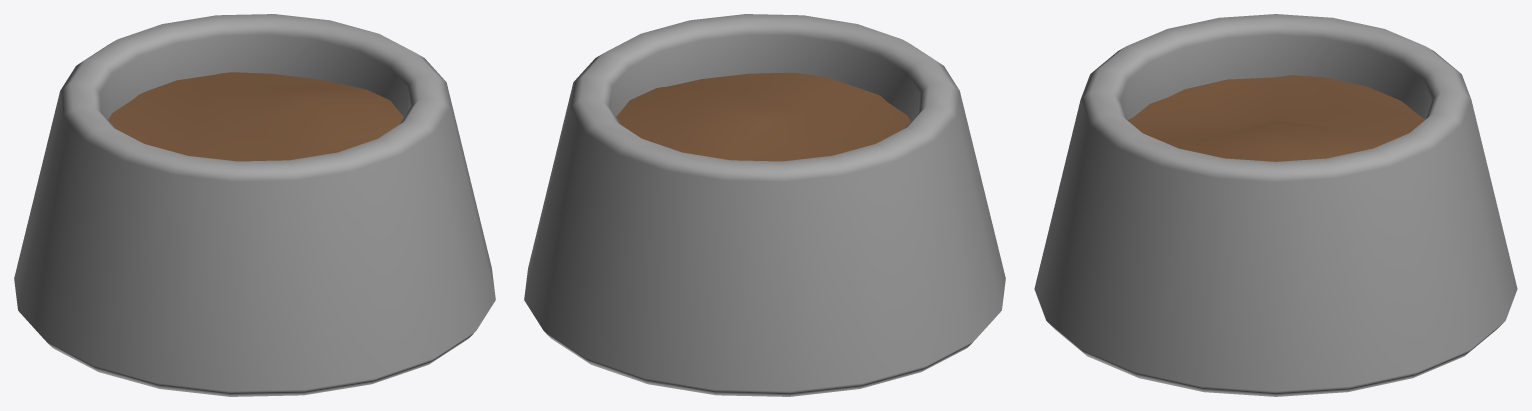
Rendered from Bowl_of_food.glb.
The picture shows the model from 3 angles, left to right: view 1: azimuth 30°, elevation 25°; view 2: azimuth 150°, elevation 25°; view 3: azimuth 270°, elevation 25°; orthographic projection.
Visible parts, largest first — view 1: Bowl_of_food; view 2: Bowl_of_food; view 3: Bowl_of_food.
Boxes of the visible parts, box(x1,y1,x2,y2) form: Bowl_of_food: box(14, 14, 495, 396); Bowl_of_food: box(524, 14, 1005, 396); Bowl_of_food: box(1034, 14, 1517, 396).
Size of the model in its own units: 0.3728 by 0.1756 by 0.3728.
Materials: 1 (1 with a texture image).
